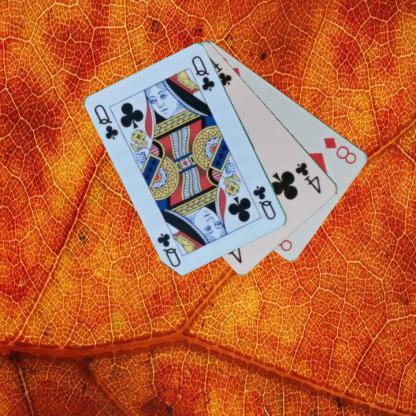4c: (292, 160, 323, 196)
8d: (321, 134, 358, 166)
Qc: (91, 102, 120, 142), (250, 183, 278, 221)
